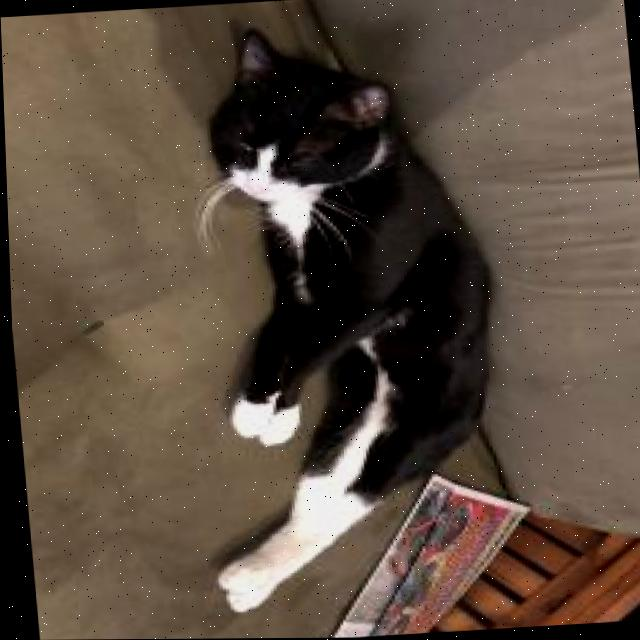Tuxedo: (158, 11, 521, 617)
